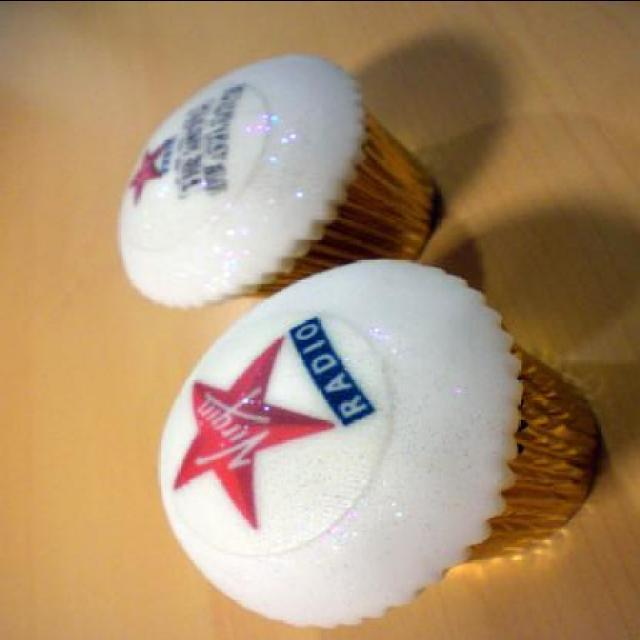Muffin: (155, 259, 598, 630), (115, 54, 442, 312)
